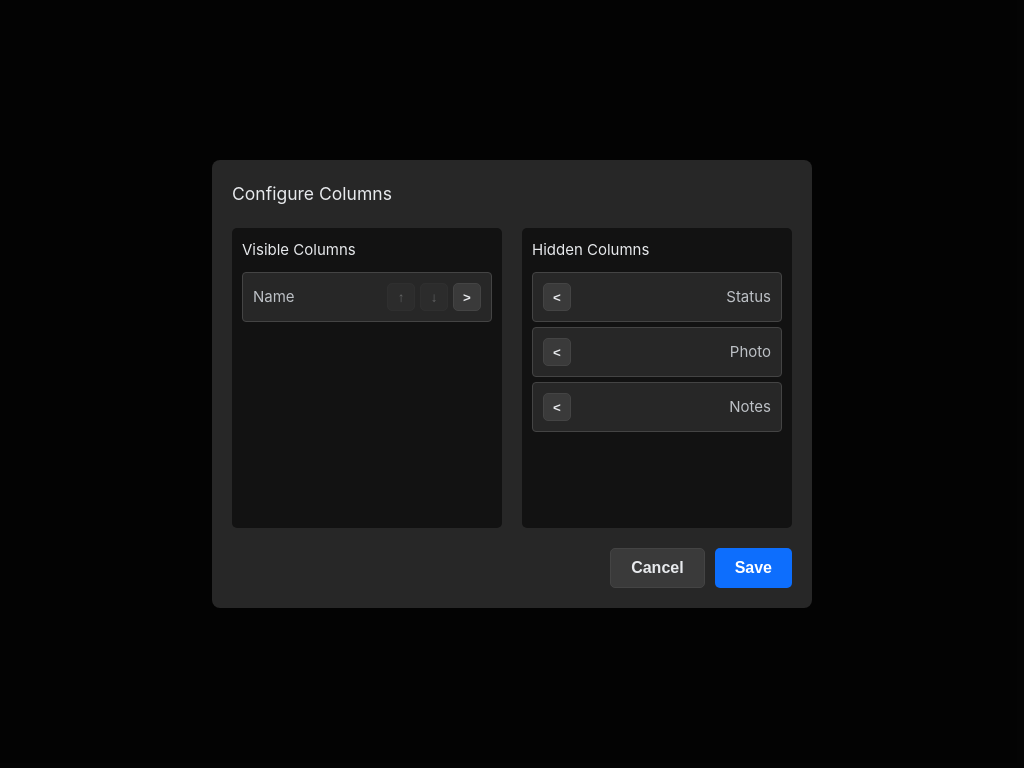
Test: ColumnConfigModal › moves column from hidden to visible when < button clicked
The image size is (1024, 768).
Click the button with class "move-button" next to "Status". click: coordinates (557, 297)
box: [543,283,571,311]
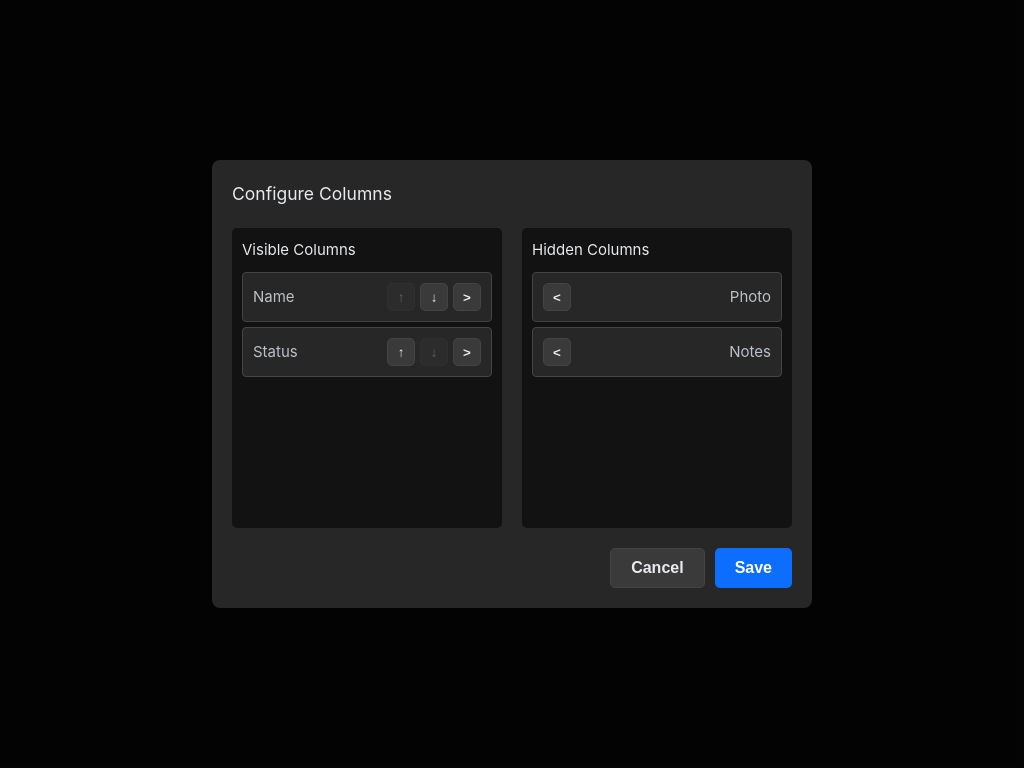
Result: the element with class "column-list" shows "Status" at [253,342,298,361]
Result: the element with class "column-list" no longer shows "Status"
